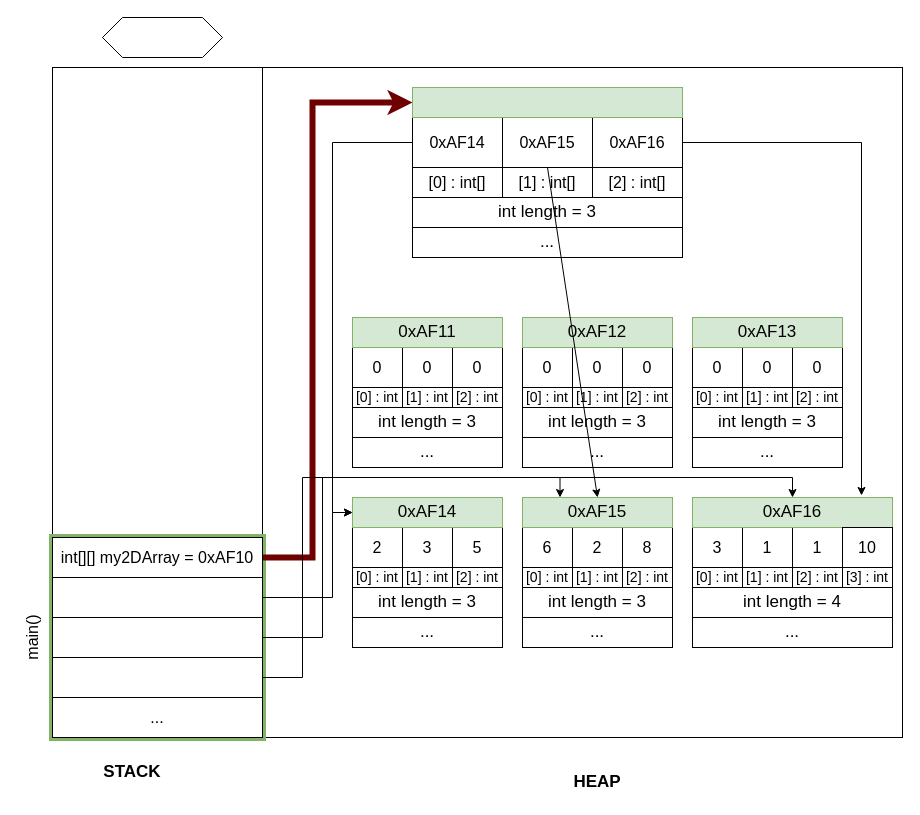
This 920x815 diagram has some shape labels left out. The centre of each missing label's shape, as x and y in pixels:
"0xAF10" goes at (x=547, y=102).
"int[] row1 = 0xAF14" goes at (x=157, y=597).
"int[] row2 = 0xAF15" goes at (x=157, y=637).
"int[] row3 = 0xAF16" goes at (x=157, y=677).
"main thread" goes at (x=162, y=37).
